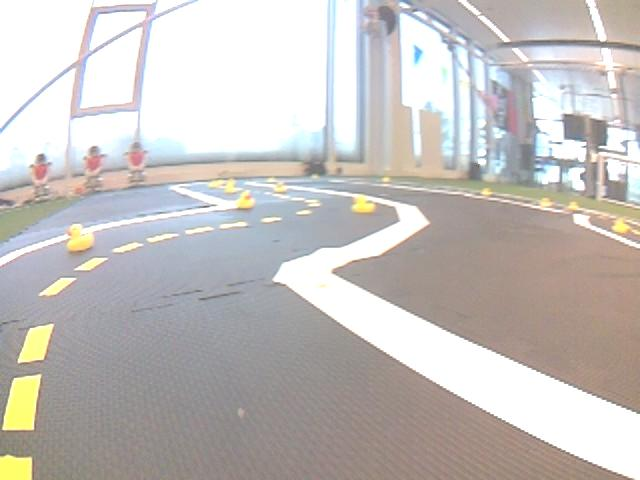Duckies: (67, 223, 94, 252), (352, 197, 375, 214), (236, 191, 256, 209), (613, 220, 630, 233), (274, 181, 287, 193), (224, 182, 237, 194), (541, 197, 554, 207), (567, 201, 578, 209), (208, 181, 219, 188), (481, 188, 491, 195), (266, 177, 276, 183), (382, 176, 391, 181), (312, 174, 319, 179)
